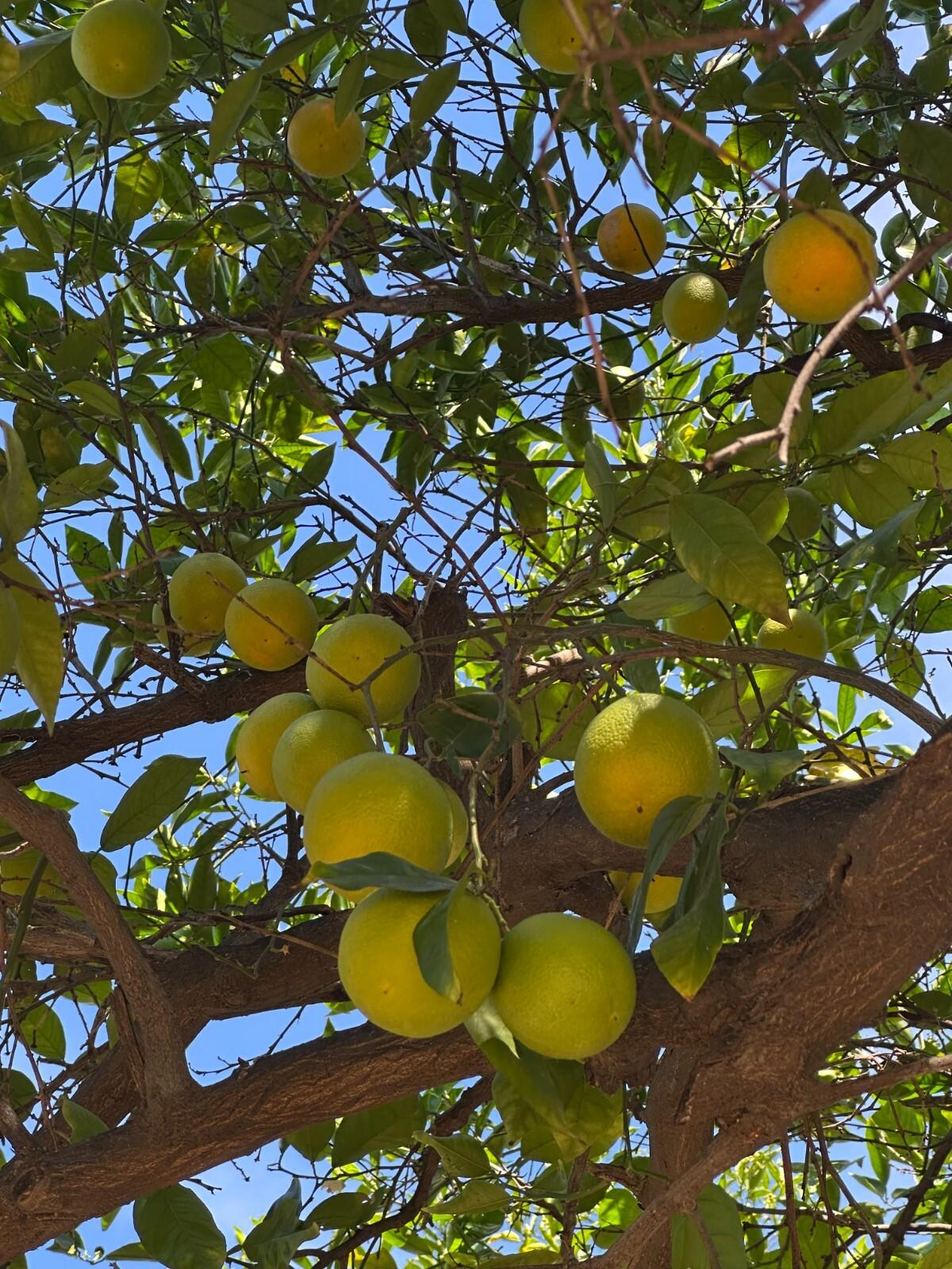orange: (338, 878, 502, 1039), (574, 691, 721, 849), (303, 751, 453, 904), (492, 914, 635, 1060), (763, 208, 875, 324), (305, 614, 421, 726), (272, 709, 374, 813), (71, 0, 170, 98), (235, 693, 316, 799), (225, 579, 319, 670), (519, 0, 615, 75), (169, 553, 245, 634), (287, 98, 363, 178), (756, 609, 829, 681), (598, 202, 667, 274), (662, 272, 728, 344), (666, 597, 736, 644), (608, 872, 684, 915), (776, 486, 824, 542), (437, 779, 467, 865), (608, 365, 645, 418)
